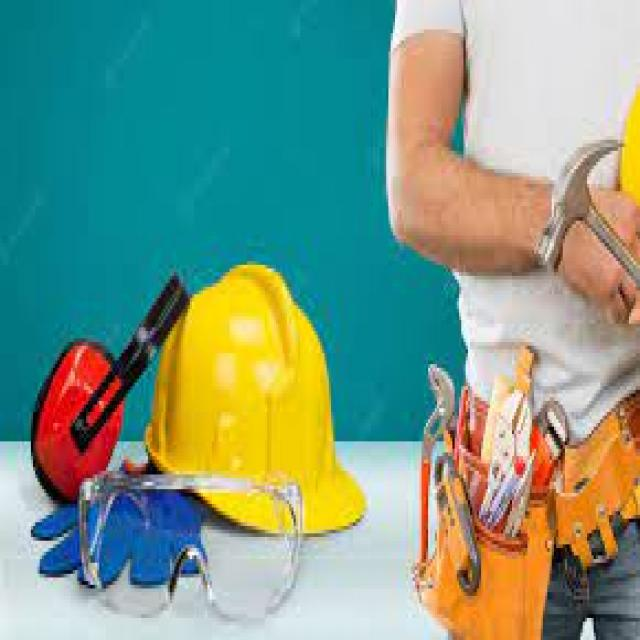Safety-Helmet: (139, 258, 369, 544)
